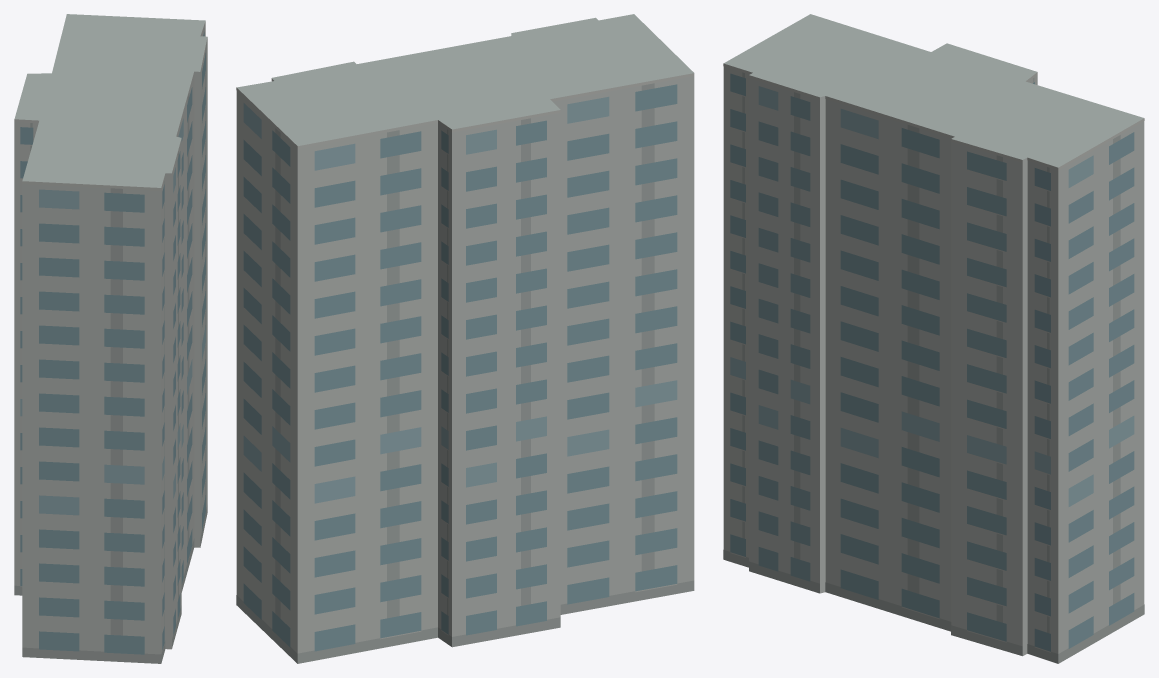
File: residential-f3bf5ef3-3884-4a09-b12a-a9adb9c97cd1.glb
3 renders of one model, left to right at view 1: azimuth 30°, elevation 25°; view 2: azimuth 150°, elevation 25°; view 3: azimuth 270°, elevation 25°, orthographic. The views are drawn at different scales.
Visible parts, largest first — view 1: residential-f3bf5ef3-3884-4a09-b12a-a9adb9c97cd1.tmp; view 2: residential-f3bf5ef3-3884-4a09-b12a-a9adb9c97cd1.tmp; view 3: residential-f3bf5ef3-3884-4a09-b12a-a9adb9c97cd1.tmp.
Part boxes in pixels (x1,y1,x2,y2): residential-f3bf5ef3-3884-4a09-b12a-a9adb9c97cd1.tmp: (14,14,207,663); residential-f3bf5ef3-3884-4a09-b12a-a9adb9c97cd1.tmp: (236,14,694,663); residential-f3bf5ef3-3884-4a09-b12a-a9adb9c97cd1.tmp: (723,14,1144,663).
Bounding box in the file's own units: 27.91 × 42 × 32.3.
